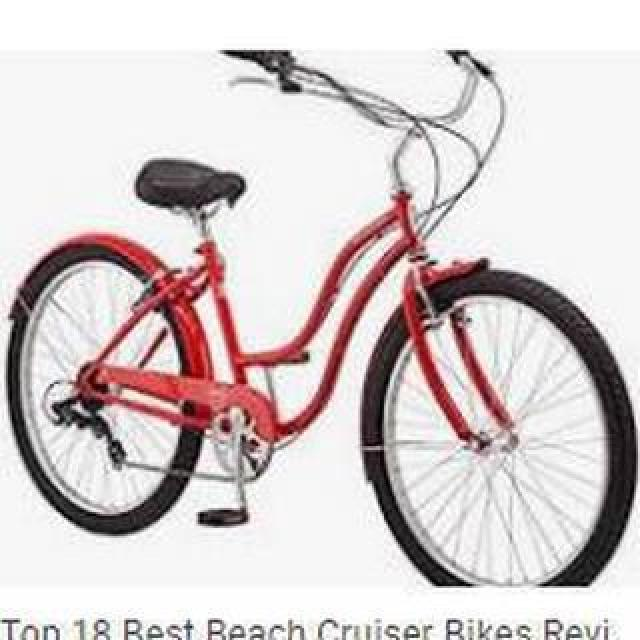Person: (0, 33, 640, 583)
